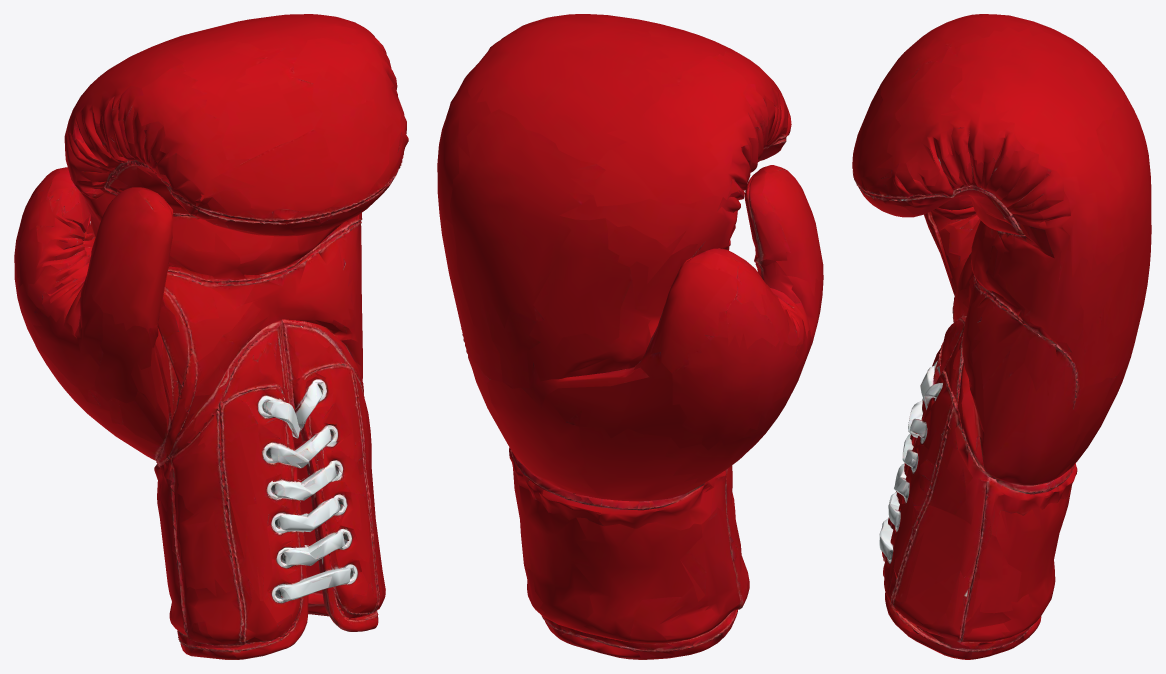
File: glove.glb
The picture shows the model from 3 angles, left to right: view 1: azimuth 30°, elevation 25°; view 2: azimuth 150°, elevation 25°; view 3: azimuth 270°, elevation 25°; orthographic projection. The views are drawn at different scales.
Size of the model in its own units: 1.12 by 1.9 by 0.9002.
1 material, 1 textured.
